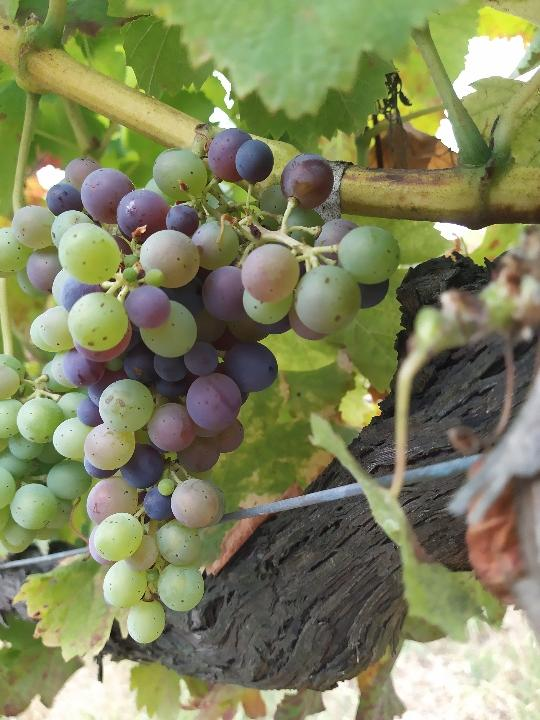grape: (0, 120, 402, 646)
